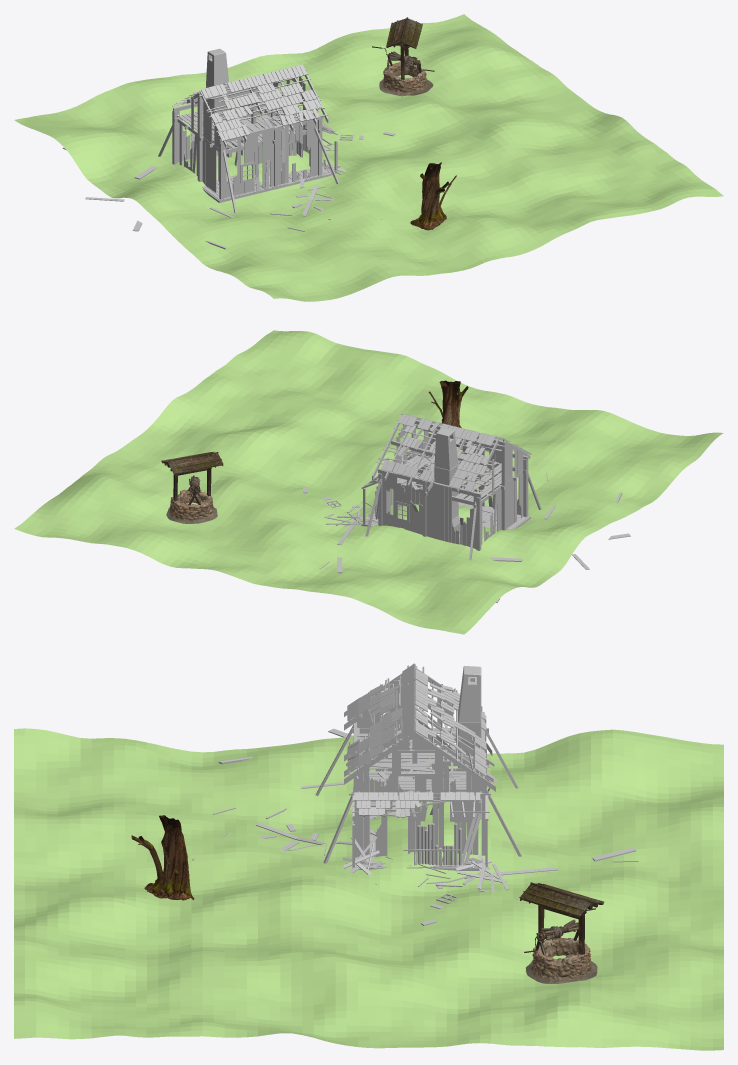
3 views of the same model, one above another, from view 1: azimuth 30°, elevation 25°; view 2: azimuth 150°, elevation 25°; view 3: azimuth 270°, elevation 25° (orthographic). The views are drawn at different scales.
Visible parts, largest first — view 1: Plane, rbewF_LOD0_TIER2_000, ufhoagrfa_LOD0_TIER2_000, ui2jbif_LOD0_TIER2_000, Cube.597, Cube.425; view 2: Plane, ufhoagrfa_LOD0_TIER2_000, ui2jbif_LOD0_TIER2_000, rbewF_LOD0_TIER2_000, Cube.597, Cube.001, Cube.425; view 3: Plane, rbewF_LOD0_TIER2_000, ufhoagrfa_LOD0_TIER2_000, ui2jbif_LOD0_TIER2_000, Cube.597, ugcicbhga_LOD0_TIER2_000.
Part boxes in pixels (x1,y1,x2,y2): Plane: (14,14,723,301); rbewF_LOD0_TIER2_000: (410,162,456,230); ufhoagrfa_LOD0_TIER2_000: (379,61,433,96); ui2jbif_LOD0_TIER2_000: (386,17,422,79); Cube.597: (206,48,228,87); Cube.425: (197,93,202,181); Plane: (14,330,723,634); ufhoagrfa_LOD0_TIER2_000: (166,489,217,523); ui2jbif_LOD0_TIER2_000: (161,451,223,501); rbewF_LOD0_TIER2_000: (428,380,468,446); Cube.597: (434,428,458,470); Cube.001: (434,464,460,533); Cube.425: (501,442,506,530); Plane: (14,728,723,1050); rbewF_LOD0_TIER2_000: (131,815,194,900); ufhoagrfa_LOD0_TIER2_000: (526,937,597,983); ui2jbif_LOD0_TIER2_000: (519,882,604,954); Cube.597: (458,666,481,722); ugcicbhga_LOD0_TIER2_000: (524,908,595,955).
Bounding box in the file's own units: 28.17 × 7.06 × 26.56.
